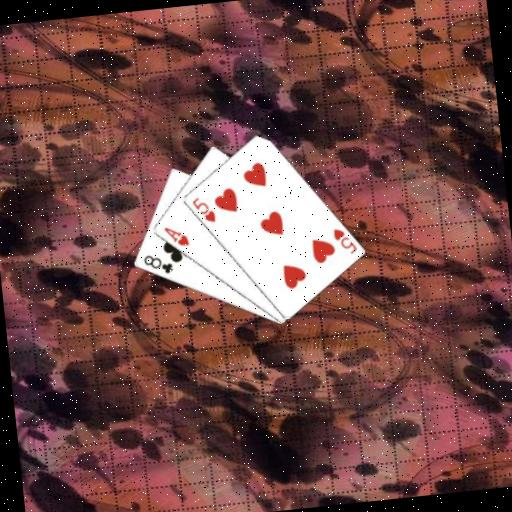5H: (329, 223, 359, 257), (188, 193, 218, 226)
8C: (140, 250, 175, 278)
AH: (161, 222, 191, 250)
